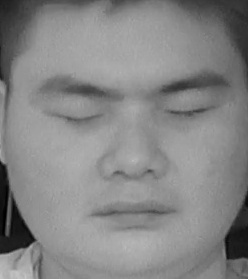blink: (167, 94, 216, 130), (49, 99, 102, 131)
mouth: (92, 188, 182, 233)
